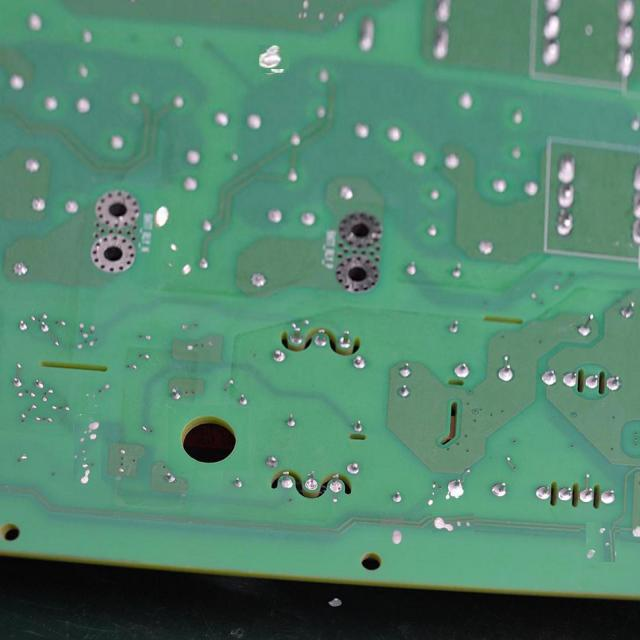spillover: (73, 413, 101, 487), (582, 524, 618, 560), (432, 512, 474, 537), (260, 44, 288, 71), (154, 200, 170, 231), (179, 256, 194, 281)
